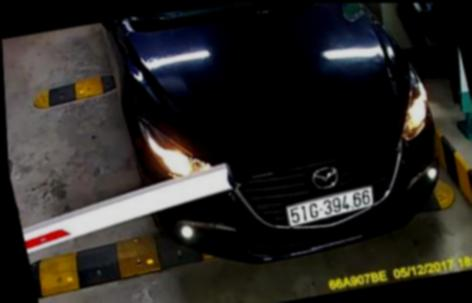License_Plate: (279, 185, 381, 230)
